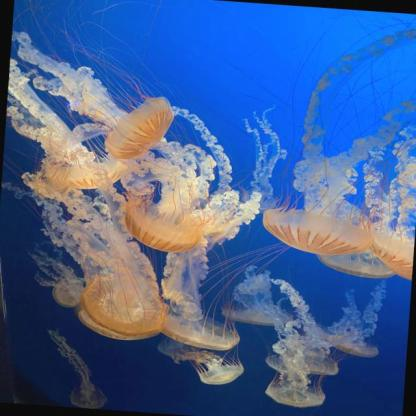jellyfish: (73, 274, 171, 346), (259, 204, 373, 258), (102, 90, 176, 160), (121, 197, 204, 255), (46, 145, 131, 194), (158, 308, 243, 352), (362, 230, 414, 284), (325, 246, 393, 280), (267, 350, 342, 380), (210, 302, 298, 327), (261, 381, 331, 406), (194, 360, 248, 387), (326, 333, 380, 360), (45, 278, 86, 306)
